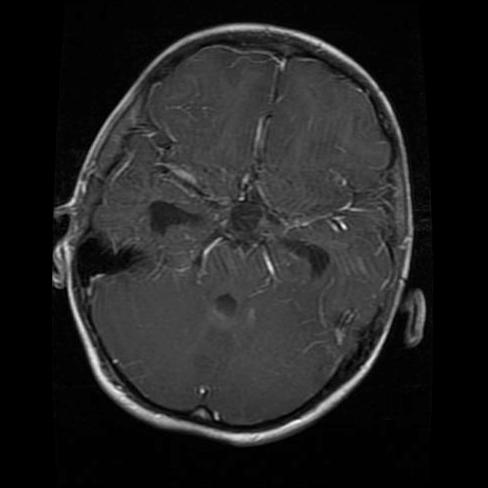Tumour-Glioma: (61, 221, 152, 300)
